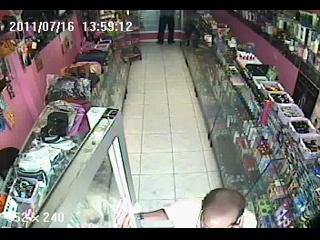Normal: (198, 188, 247, 228), (157, 10, 176, 45)
